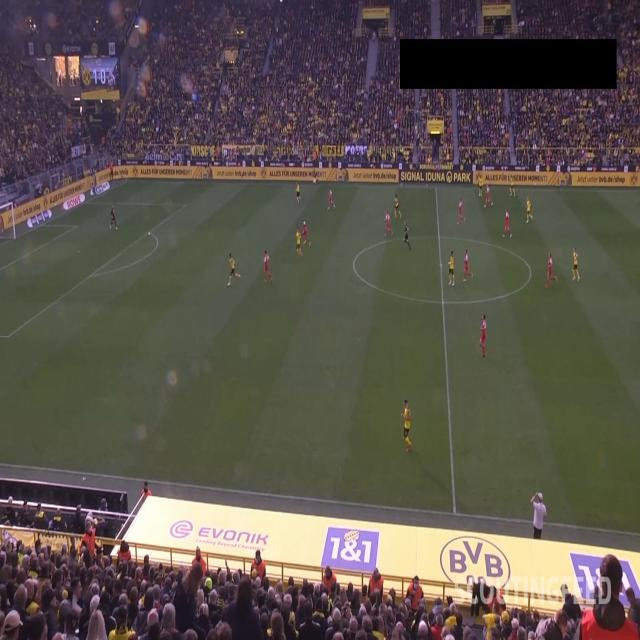ball: (147, 230, 151, 237)
